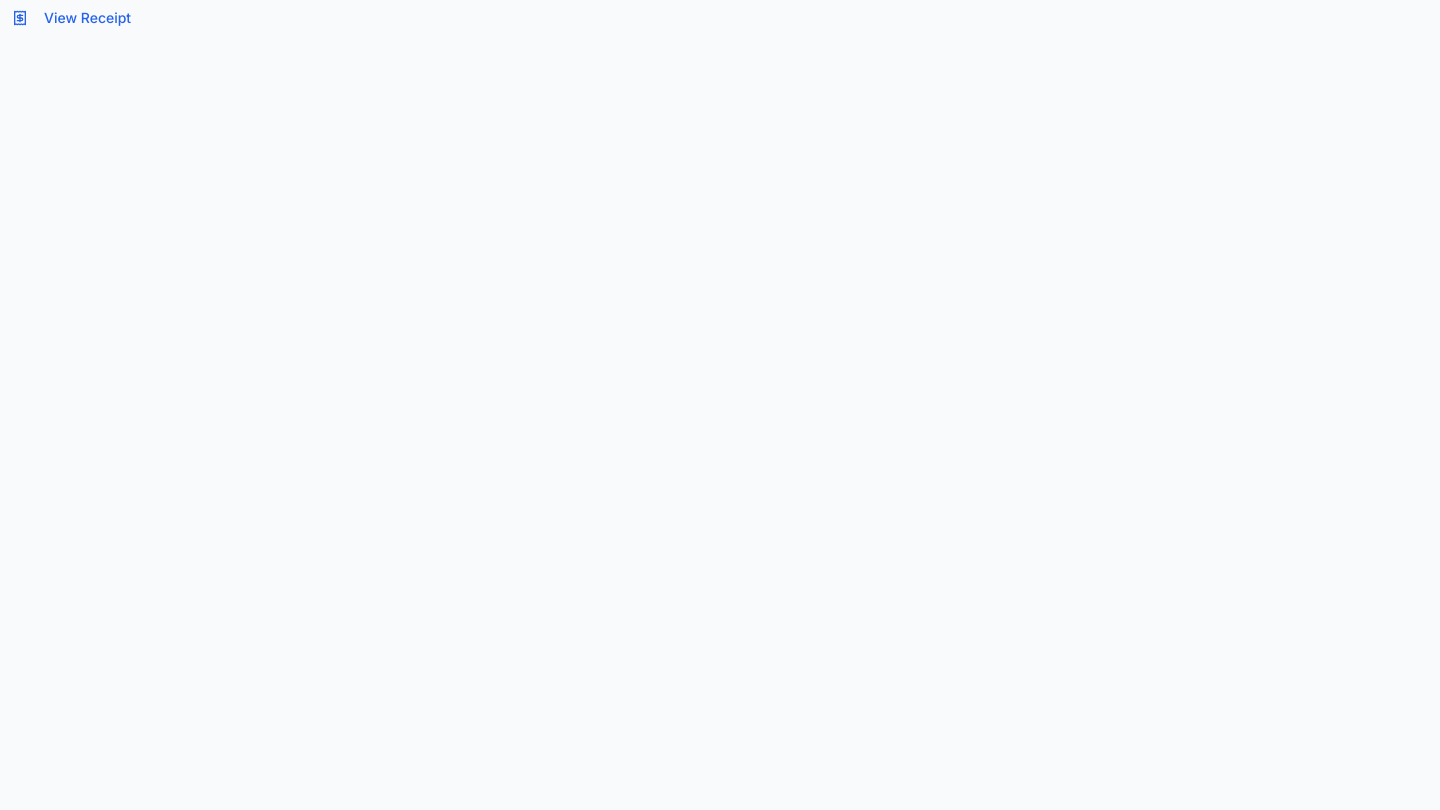
ReceiptViewer › displays PDF download options instead of preview
Click the button "View Receipt" at (72, 18), box 0,0 -> 143,36
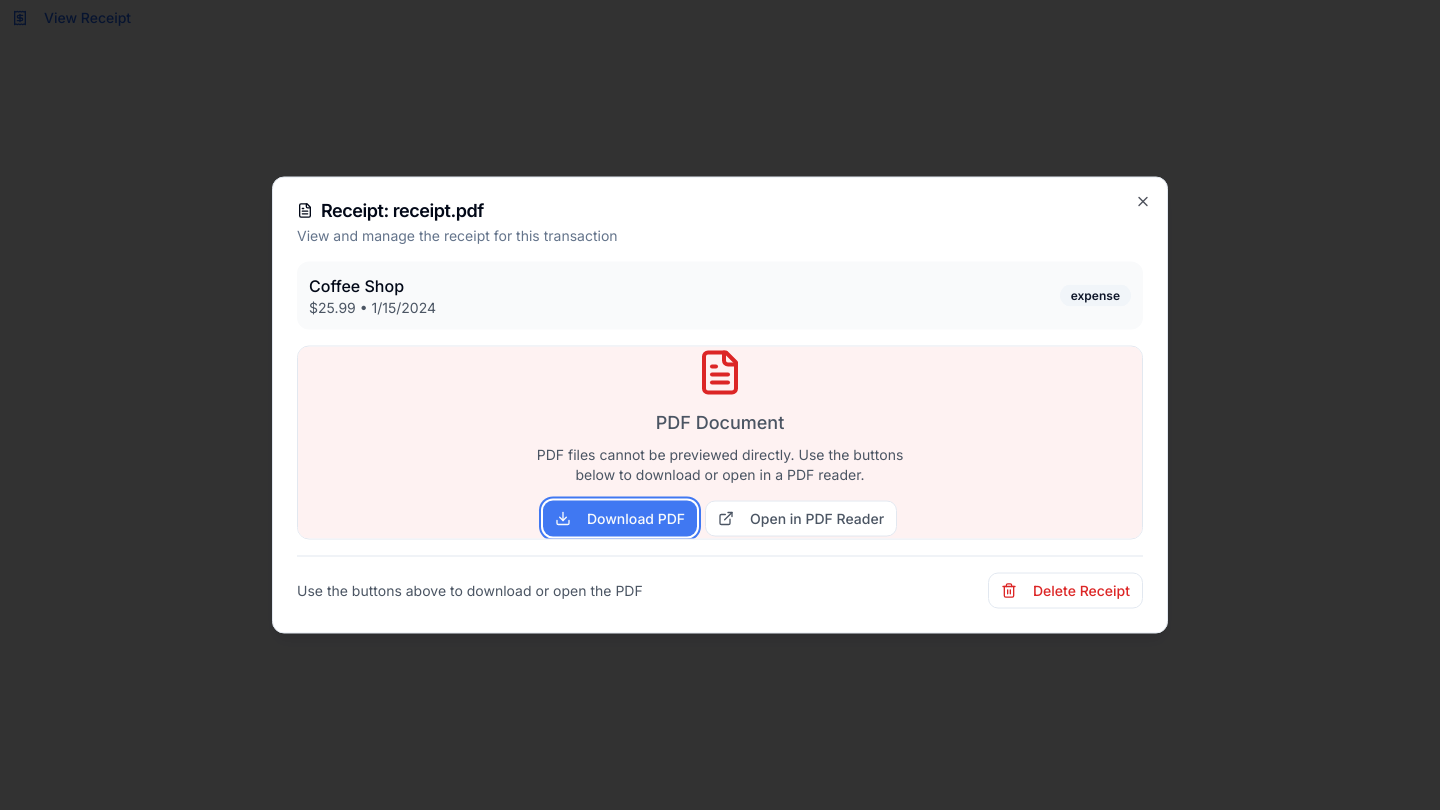
Check: the text "PDF Document" is shown, box 656,408 -> 784,436
Check: the text "PDF files cannot be previewed directly" is shown, box 537,446 -> 903,482
Check: the button "Download PDF" is shown, box 543,500 -> 697,536
